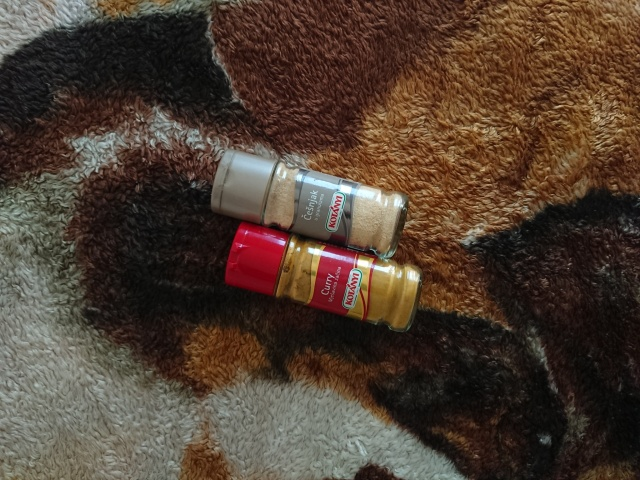Kotanyi Curry Spices Mix 70g: (223, 219, 426, 337)
Kotanyi Garlic Granules 70g: (207, 147, 411, 261)
